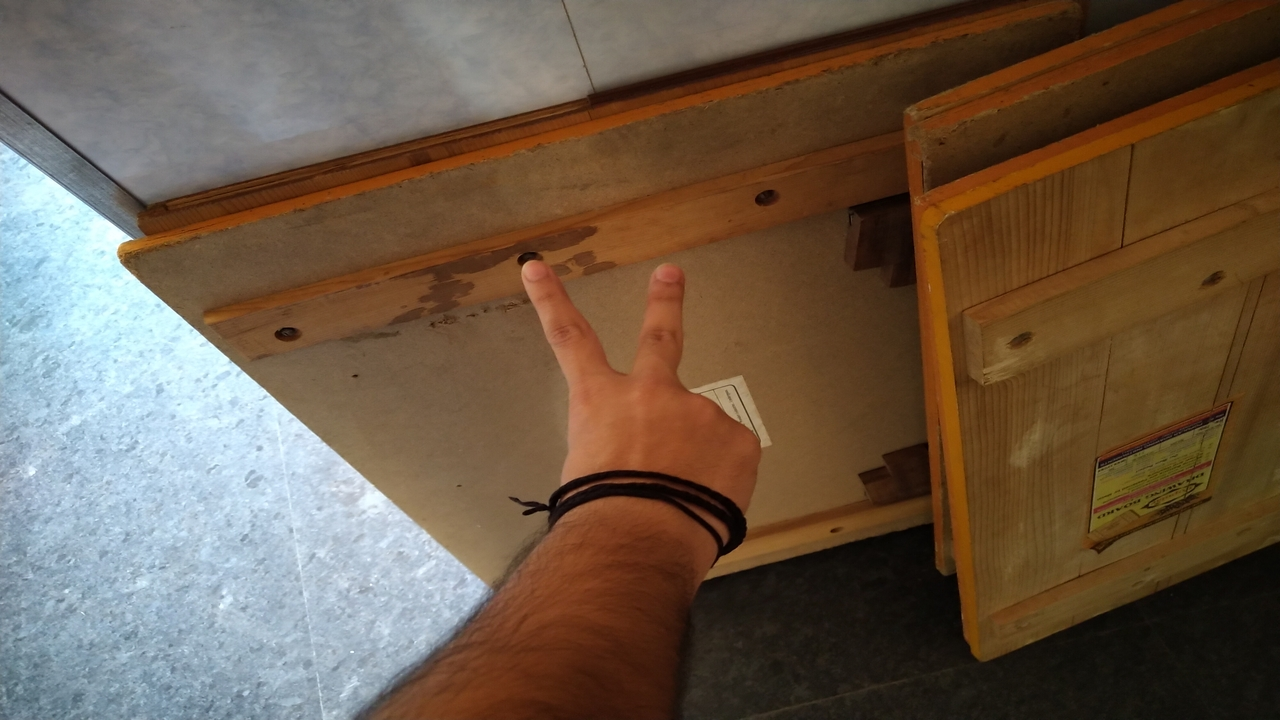fingertip: (506, 240, 564, 292), (640, 248, 690, 298)
